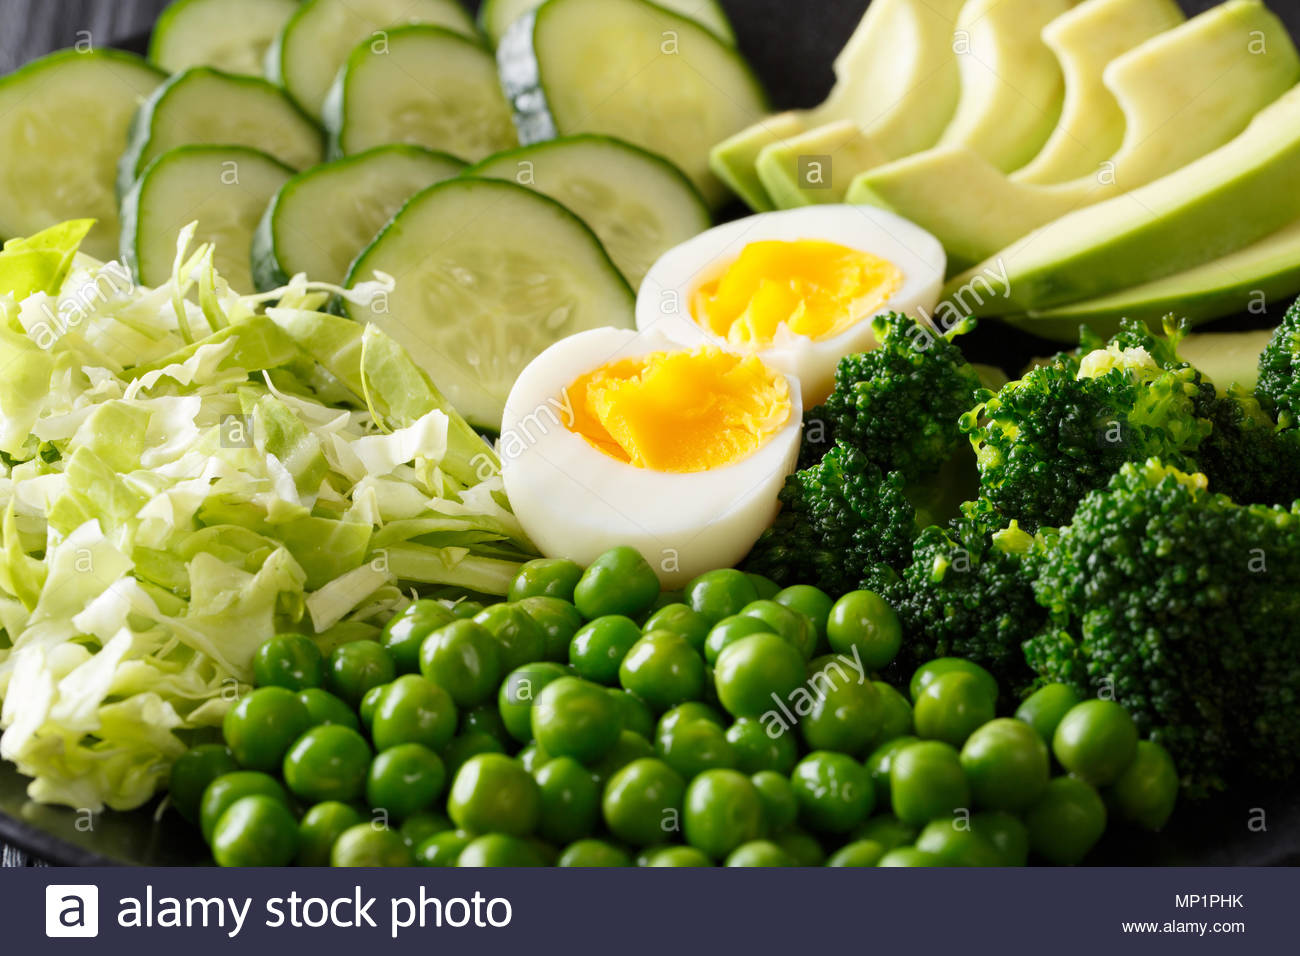boiled peas: (333, 635, 1033, 845)
chopped lettuce: (23, 271, 317, 655)
fried egg: (490, 335, 797, 575), (673, 188, 930, 371)
